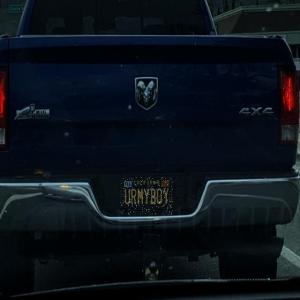Plate: (120, 177, 173, 215)
